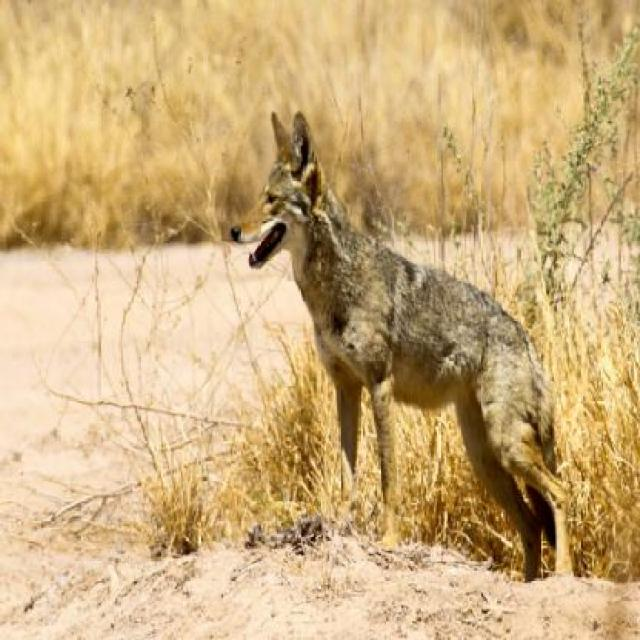Coyote: (230, 112, 573, 577)
